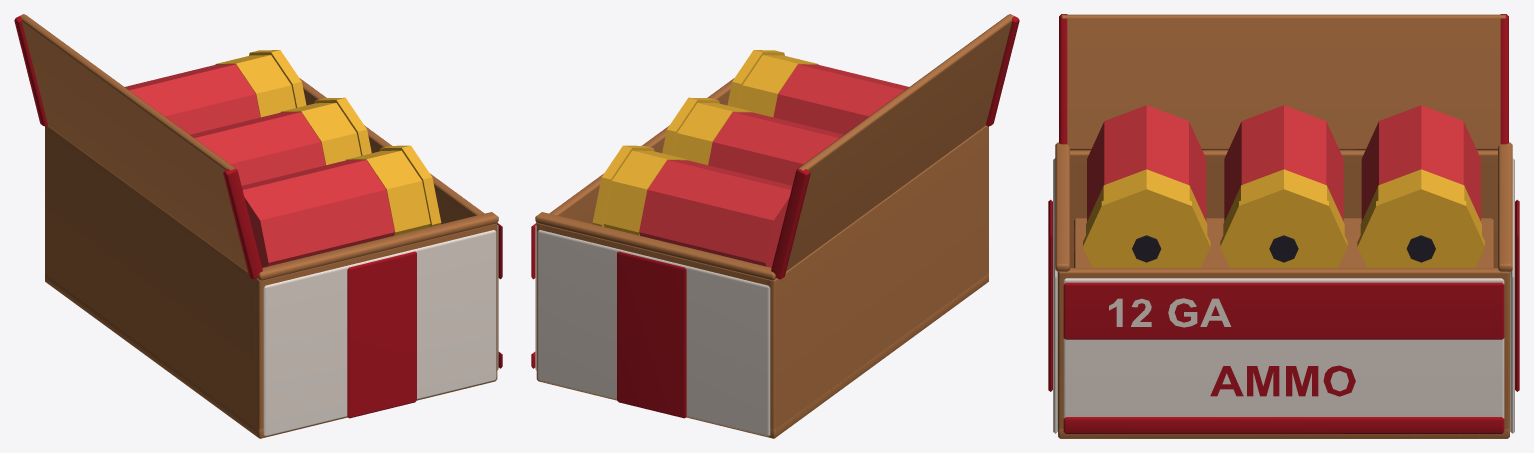
Rendered from pick.shotgun-ammo.glb.
3 renders of one model, left to right at view 1: azimuth 30°, elevation 25°; view 2: azimuth 150°, elevation 25°; view 3: azimuth 270°, elevation 25°, orthographic. The views are drawn at different scales.
Size of the model in its own units: 0.4222 by 0.3963 by 0.584.
